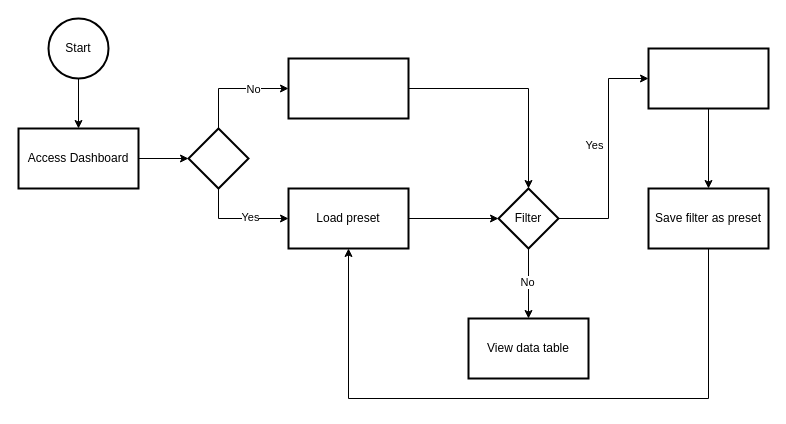
Image size: 786x424. Some labels were removed from this diagram. Here are the shapes that lost their labels. From the top down, the centre of each, then its label:
the point at 348,88: Dashboard default
the point at 708,78: Dashboard load data regrading filter
the point at 218,158: Preset
